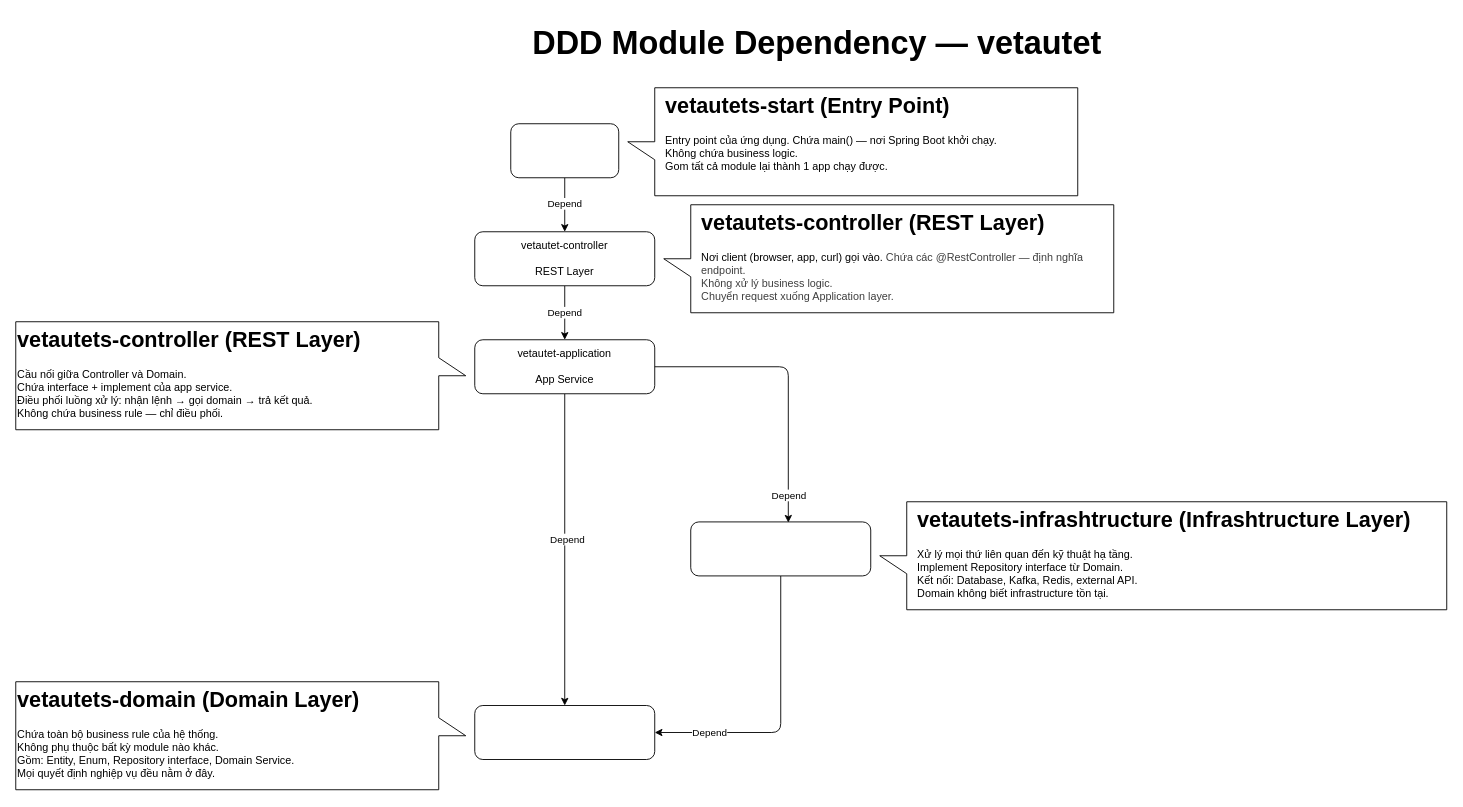
This 1463x807 diagram has some shape labels left out. Each missing label, with the centre of its shape:
"vetautet-domain No Depend" goes at point (564, 732).
"vetautet-infrashtructure DB, Redis, Kafka" goes at point (780, 548).
"vetautet-start Entry Point" goes at point (564, 150).
